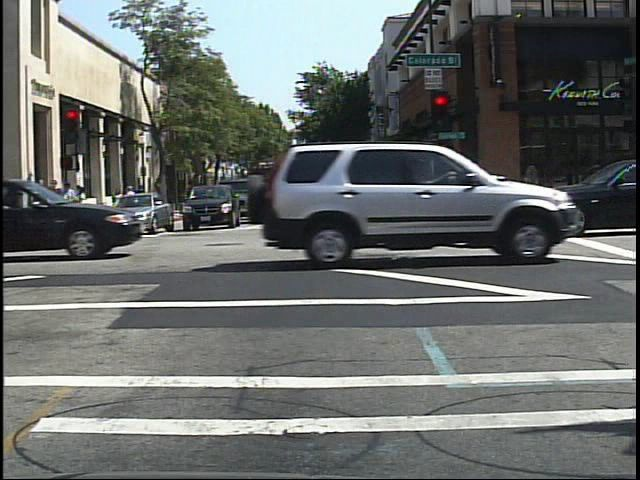person: (120, 181, 139, 224), (135, 181, 150, 218)
